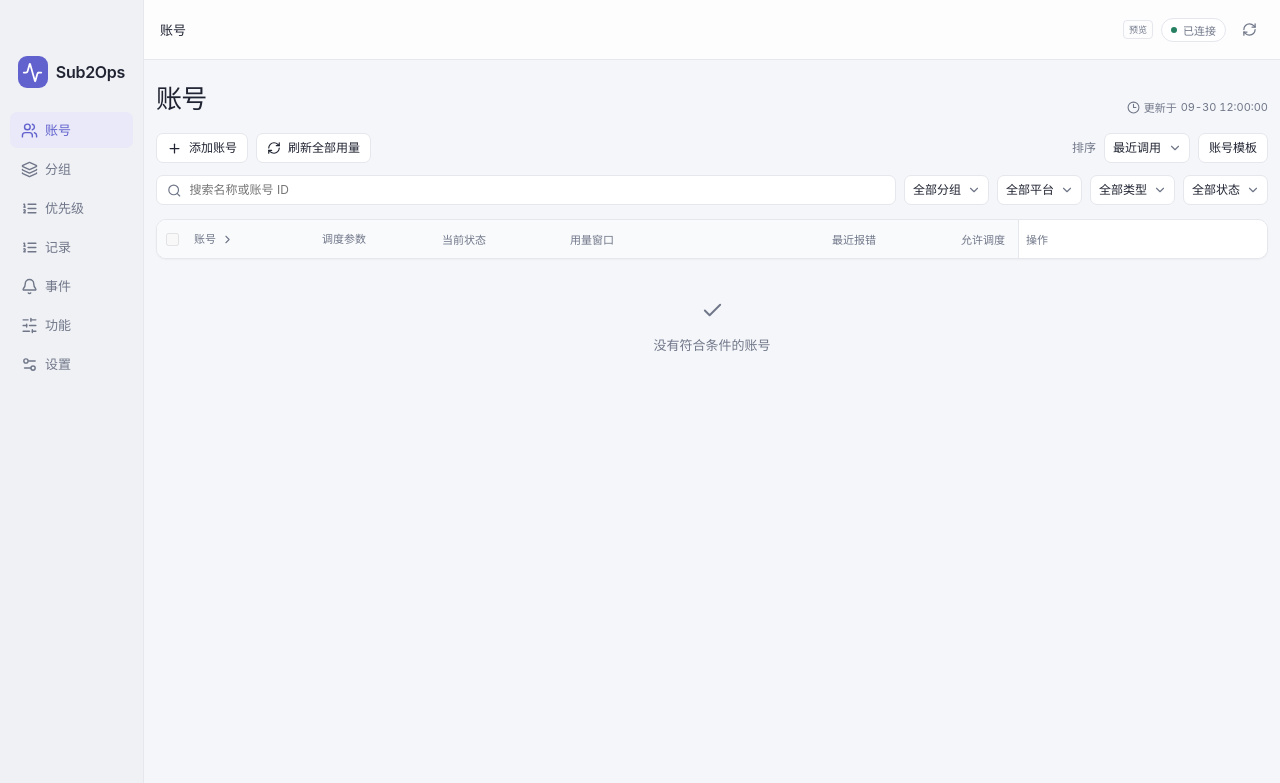
Test: preserves the automatic card-use draft after a failed save and retries without account actions
Click the button "功能".
click(72, 325)  # box [10, 307, 133, 343]
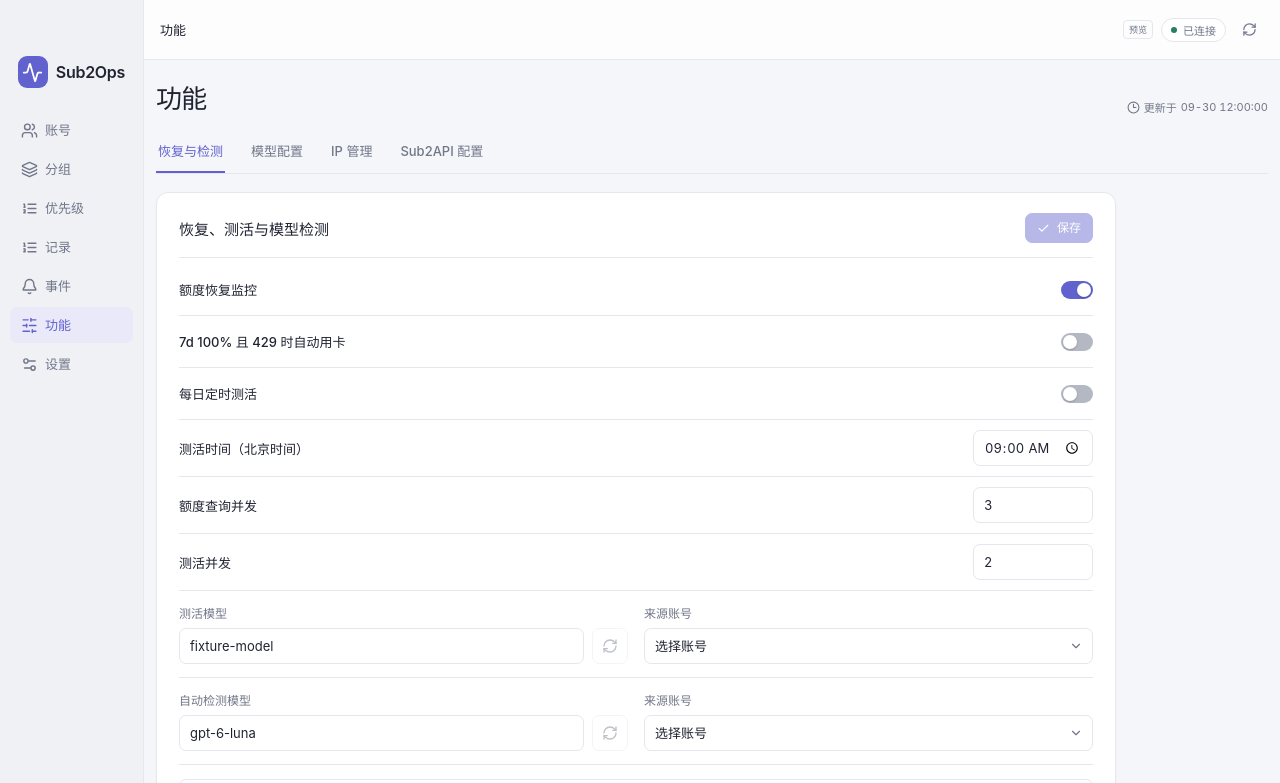
Click the switch named "7d 100% 且 429 时自动用卡".
click(1077, 342)  # box [1061, 332, 1093, 350]
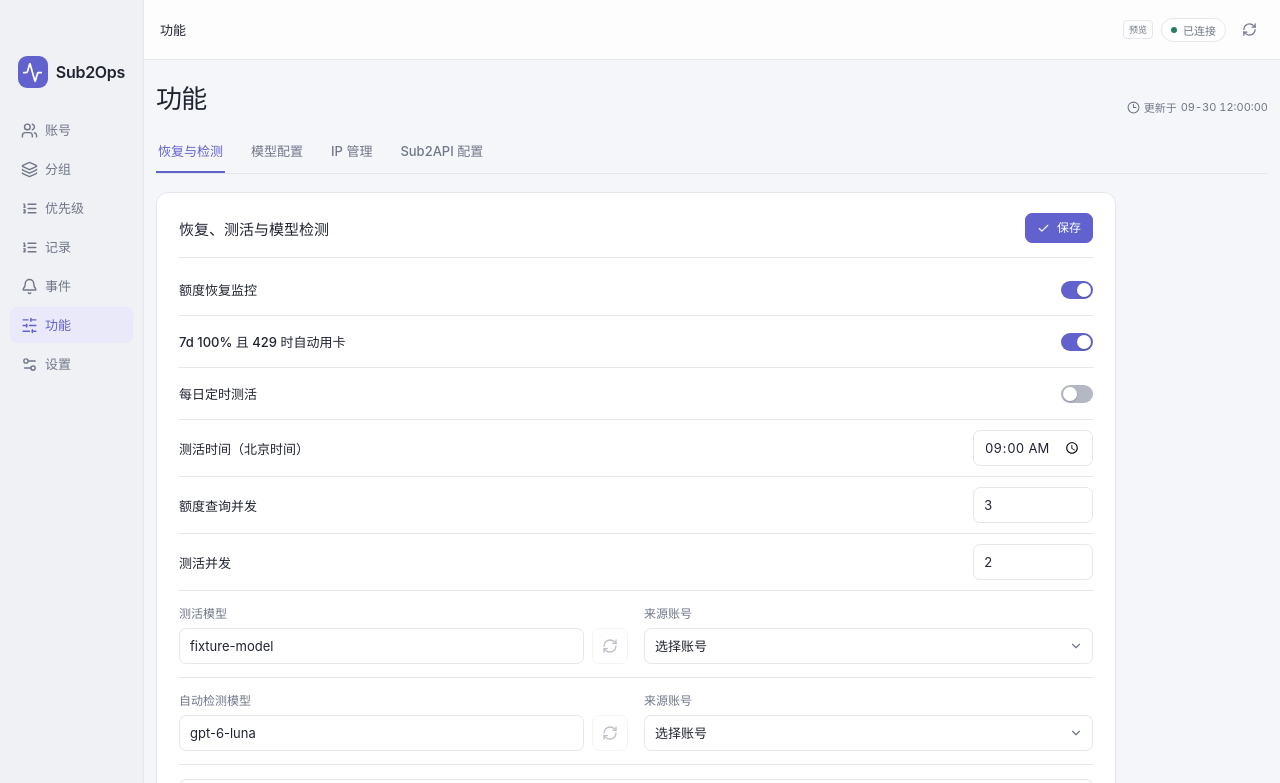
Click the button "保存".
click(1059, 228)  # box [1025, 213, 1093, 243]
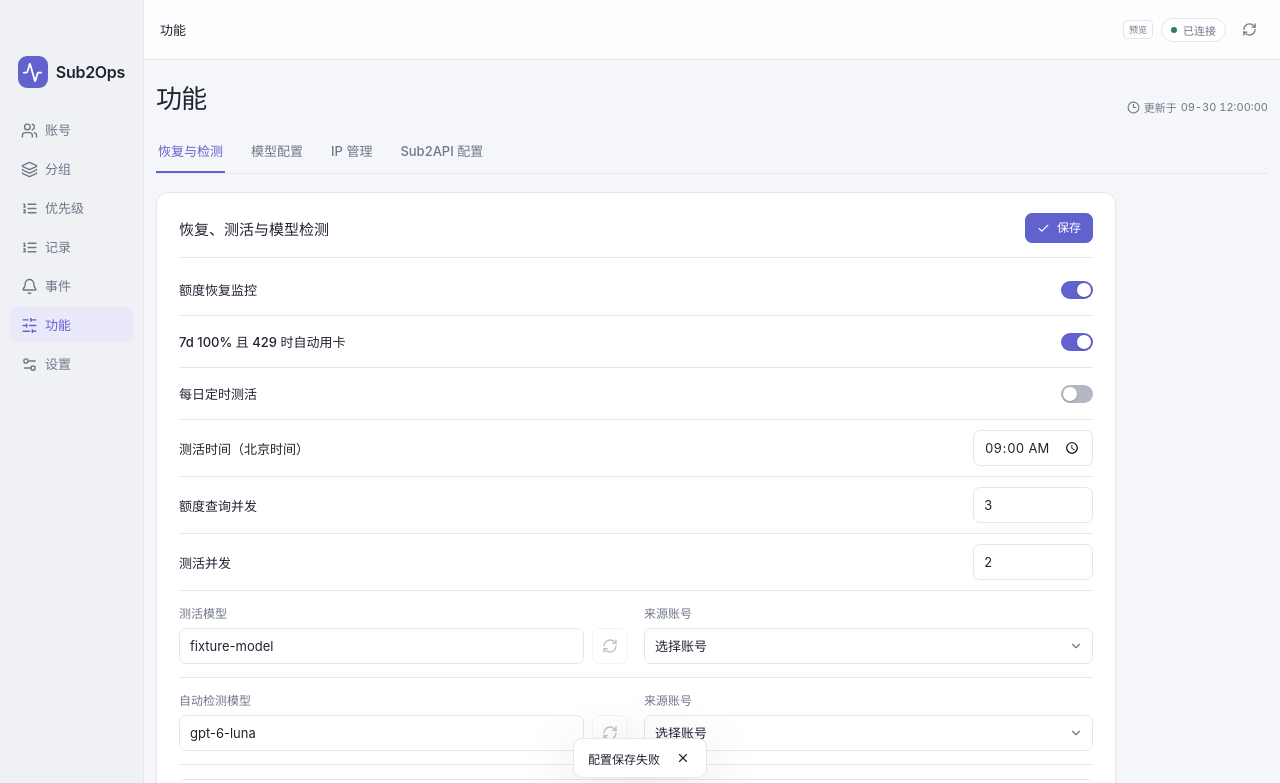
Check: the button "保存" is enabled
Check: the text "配置保存失败" is shown, box [588, 750, 660, 766]
Click the button "保存".
click(1059, 228)  # box [1025, 213, 1093, 243]
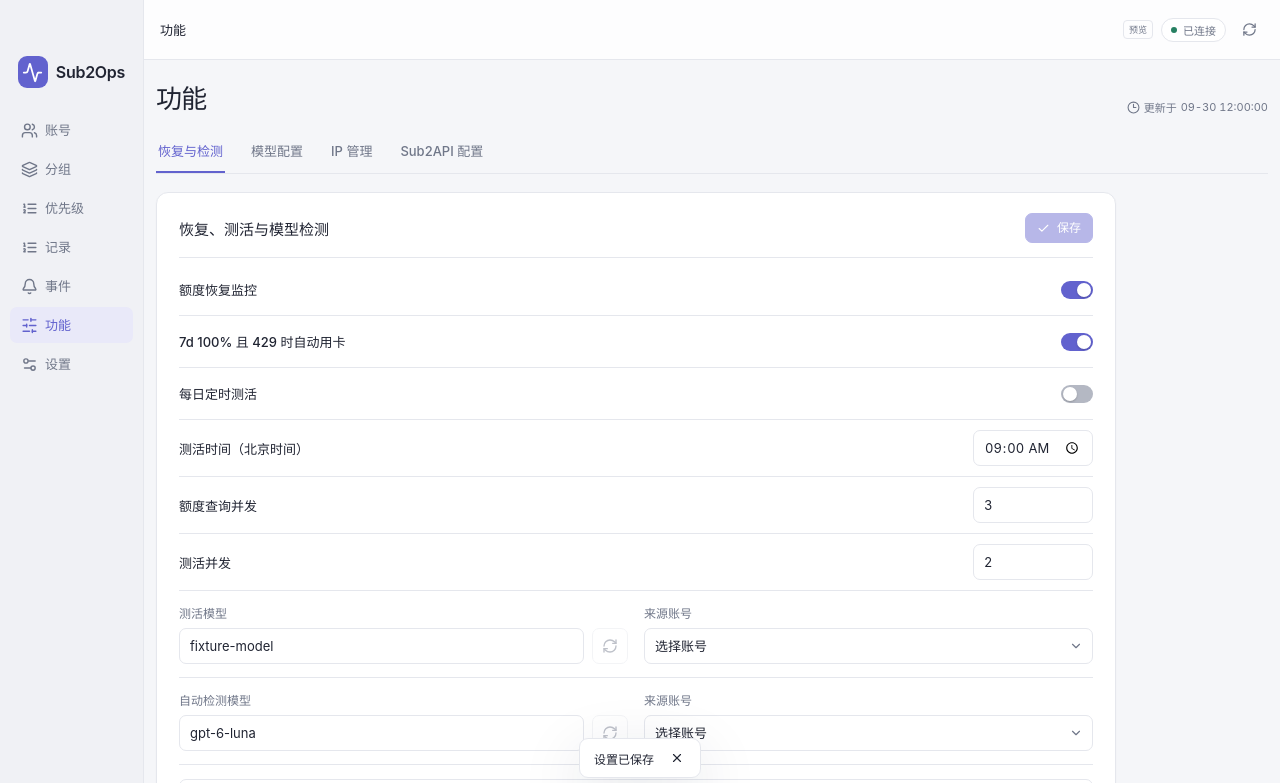
Check: the button "保存" is disabled, box [1025, 213, 1093, 243]
